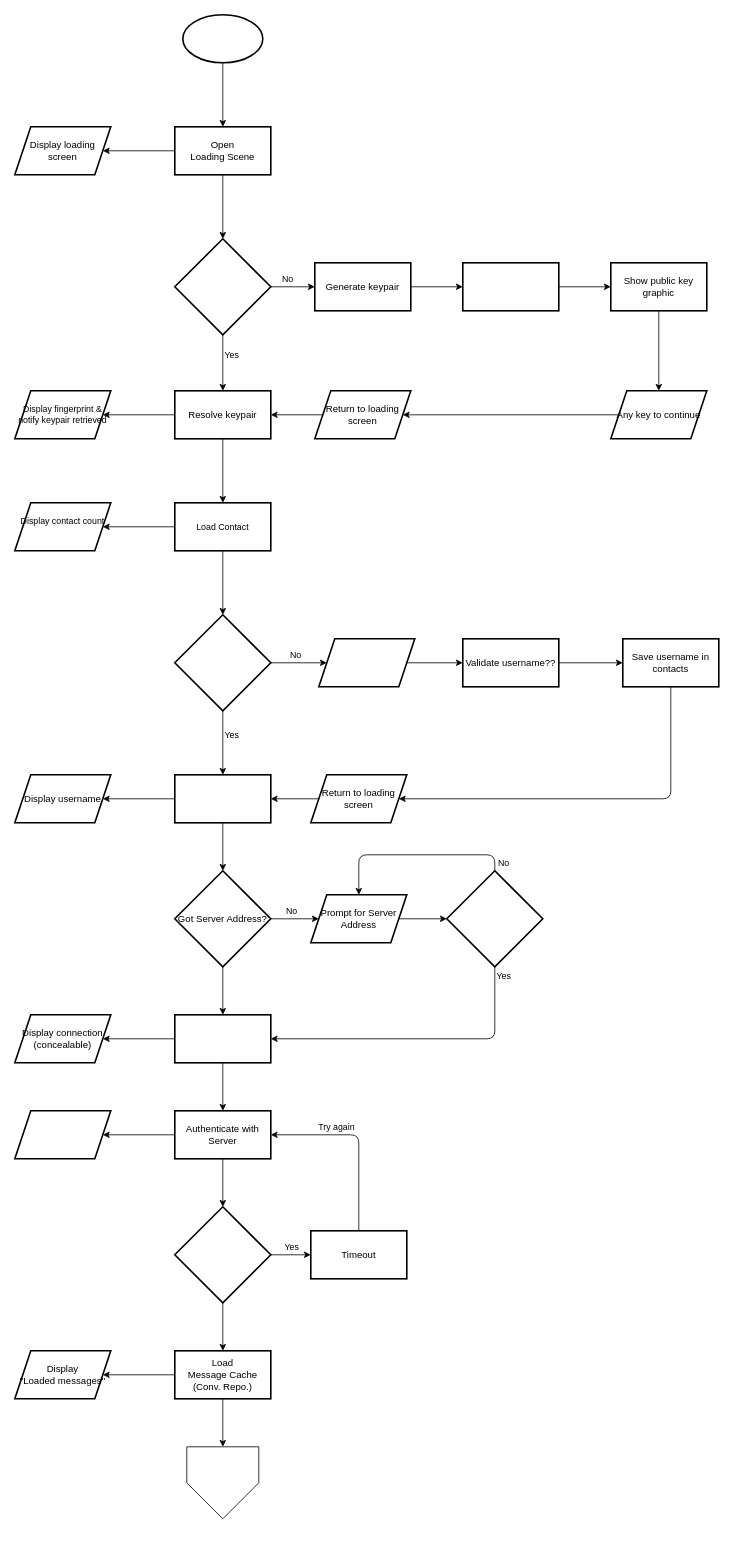
The diagram is 733 pixels wide and 1549 high, and some of its shapes have lost their labels. The shapes that lost their labels are listed below. From the top down, each one's box as (x1, y1, x2, y2) in pixels, then its label:
(182, 14, 263, 63): Open App (Start)
(174, 238, 271, 335): Keypair File exists?
(462, 262, 559, 311): Save keypair
(174, 614, 271, 711): Got Username?
(318, 638, 415, 687): Prompt for username
(174, 774, 271, 823): Resolve username
(446, 870, 543, 967): Is Server Alive? (ping)
(174, 1014, 271, 1063): Connect to Server
(14, 1110, 111, 1159): Display Auth Status
(174, 1206, 271, 1303): Auth Fail?
(186, 1446, 259, 1519): Home Scene
